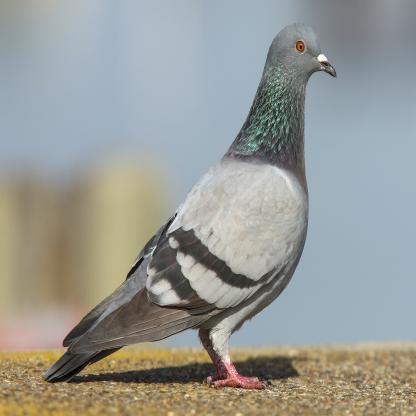Flying Rat: (51, 28, 340, 392)
